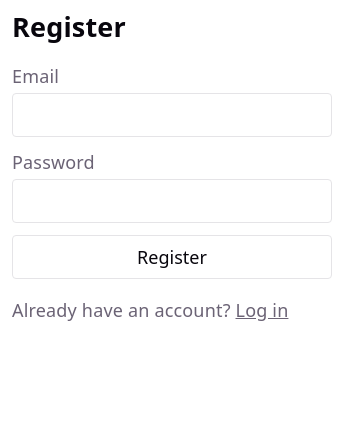
it: RegisterPage › shows an error message and stays on the page when registration fails
Type "trainer@example.com" into the field labelled "Email" at (172, 115), box [12,93,332,137]
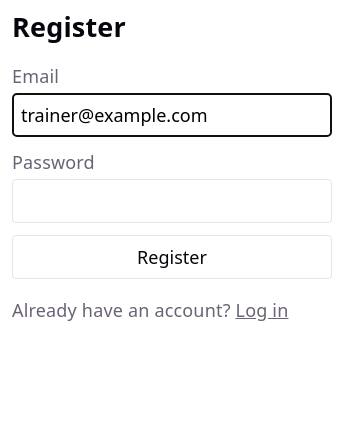
Type "Password123!" into the password field labelled "Password" at (172, 201), box [12,179,332,223]
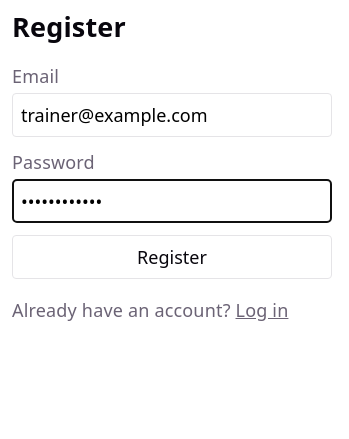
Click the button "Register" at (172, 257), box [12,235,332,279]
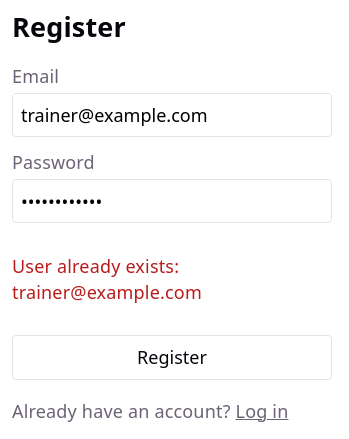
Expected: the button "Register" is shown, [12,336,332,380]
Result: the message shows "User already exists" at [12,254,202,304]
